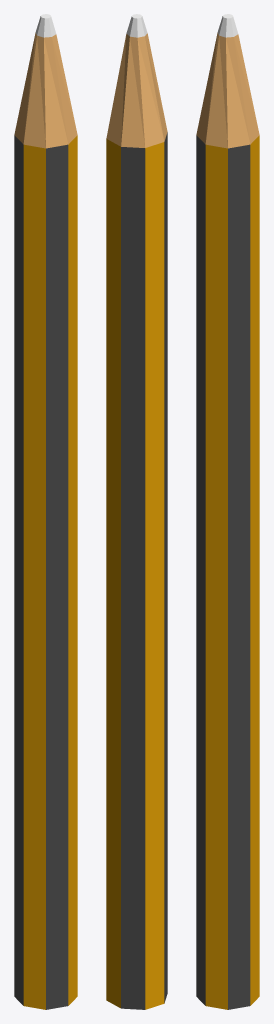
File: карандаш.obj
The picture shows the model from 3 angles, left to right: view 1: azimuth 90°, elevation 25°; view 2: azimuth 150°, elevation 25°; view 3: azimuth 270°, elevation 25°; orthographic projection.
Parts seen in each view (by area): view 1: pencil; view 2: pencil; view 3: pencil.
Part boxes in pixels (x1,y1,x2,y2): pencil: [14, 14, 77, 1009]; pencil: [106, 14, 167, 1009]; pencil: [196, 14, 259, 1009].
Size of the model in its own units: 0.8 by 13.66 by 0.8.
